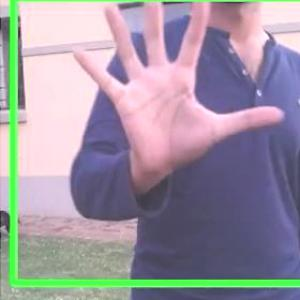follow_hand: (64, 0, 286, 176)
